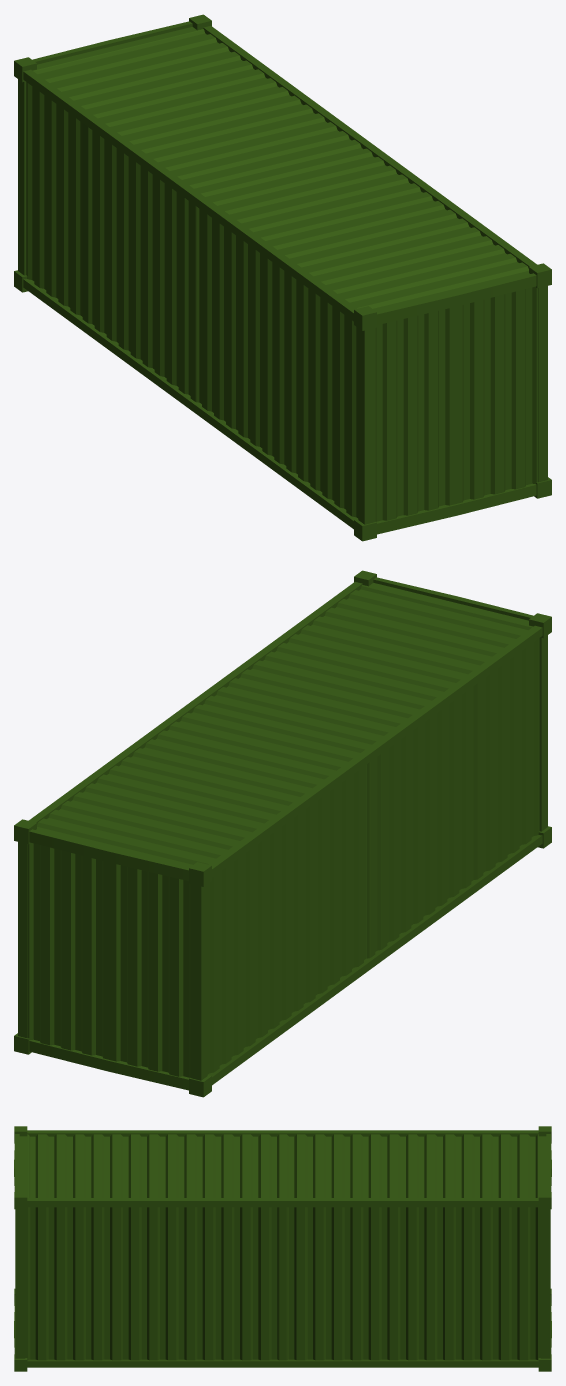
File: cargoGreenLP.glb
3 views of the same model, one above another, from view 1: azimuth 30°, elevation 25°; view 2: azimuth 150°, elevation 25°; view 3: azimuth 270°, elevation 25° (orthographic). The views are drawn at different scales.
Parts seen in each view (by area): view 1: 030.002; view 2: 030.002; view 3: 030.002.
Part boxes in pixels (x1=…): 030.002: x1=14, y1=14, x2=551, y2=541; 030.002: x1=14, y1=570, x2=551, y2=1097; 030.002: x1=14, y1=1126, x2=551, y2=1371.
Bounding box in the file's own units: 2.22 × 2.53 × 7.07.
1 material, 1 textured.
